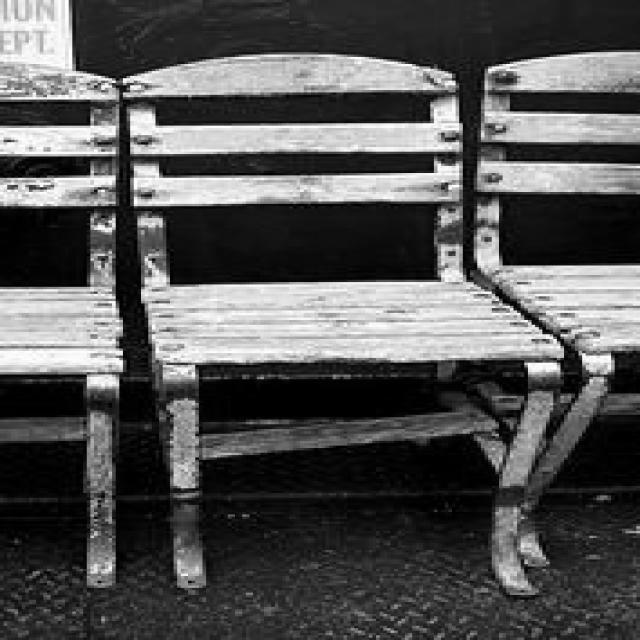chair: (118, 53, 565, 592), (481, 45, 636, 567), (0, 42, 128, 594)
